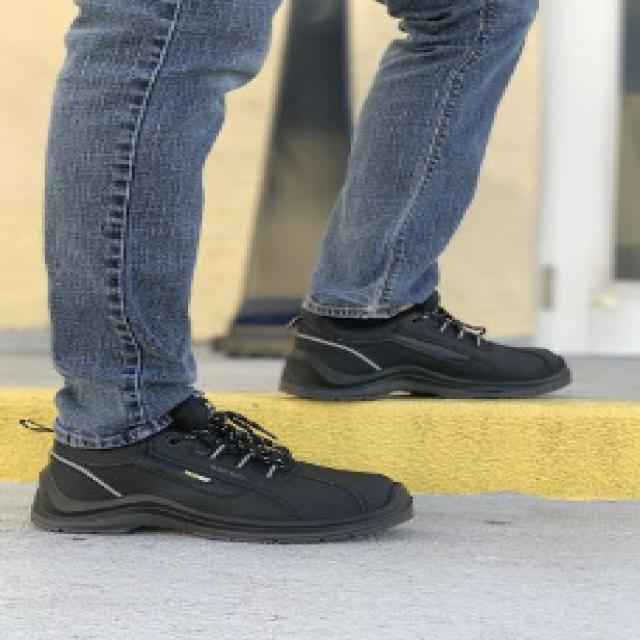shoes: (22, 282, 581, 546)
